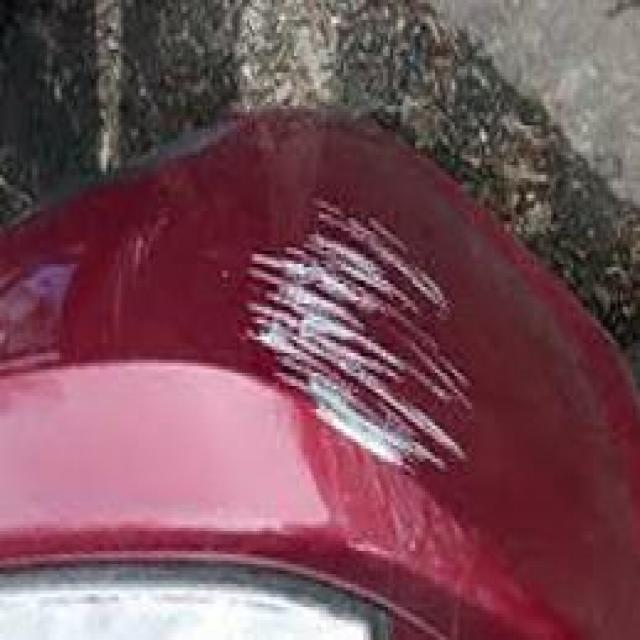scratch: (227, 183, 497, 483)
